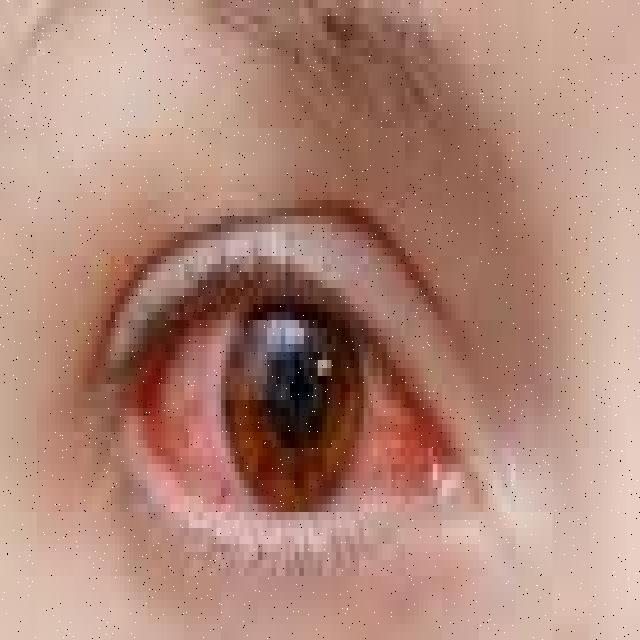Conjunctivitis: (150, 296, 442, 524)
